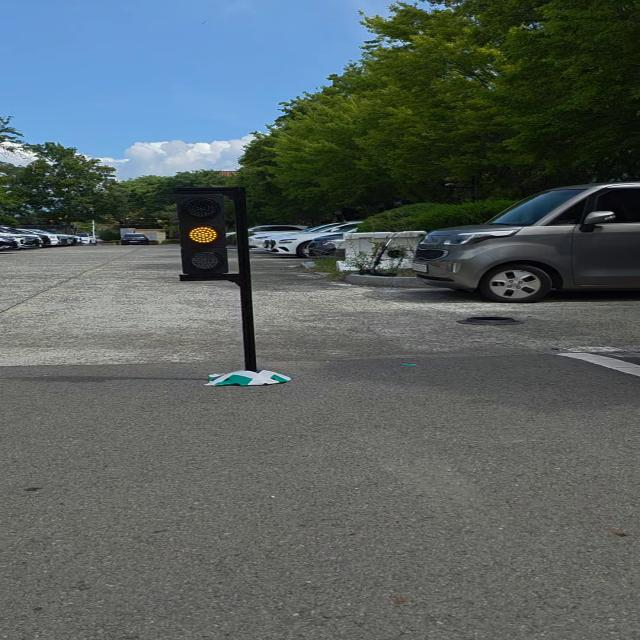yellow: (172, 189, 232, 282)
